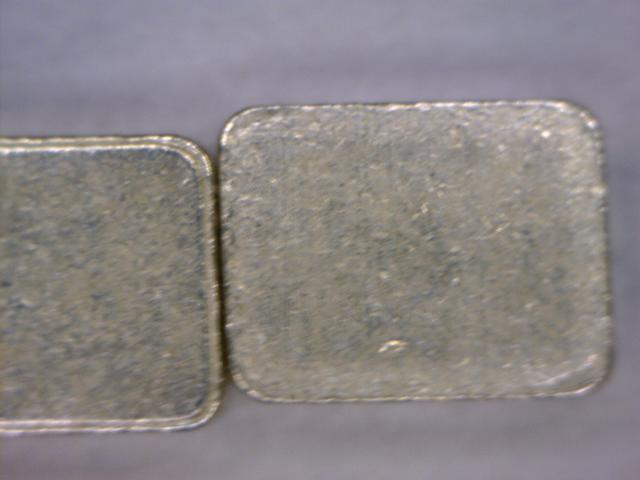ok: (226, 91, 621, 409)
